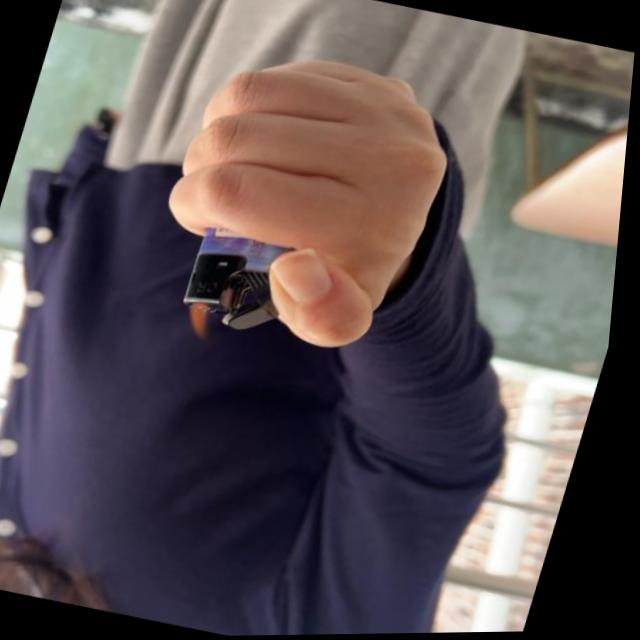Fire: (183, 297, 227, 345)
